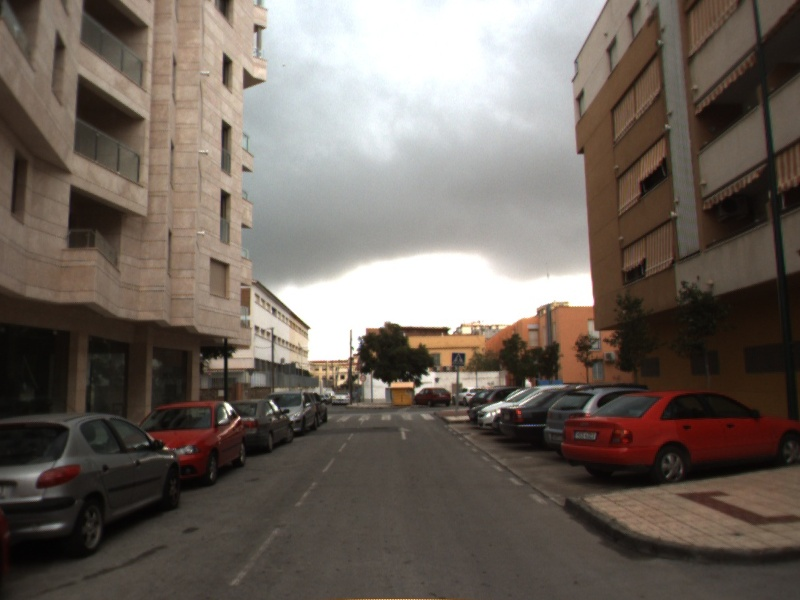STRAIGHT: (394, 424, 414, 441)
